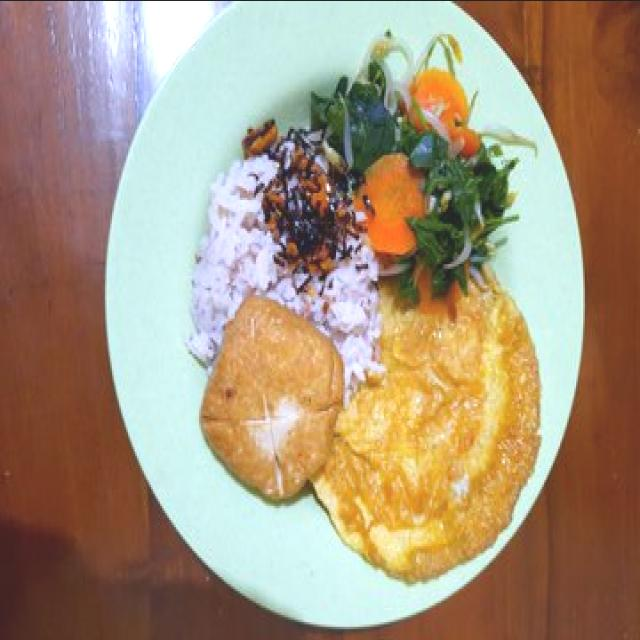tahu goreng: (197, 289, 345, 505)
telur dadar: (302, 270, 540, 583)
